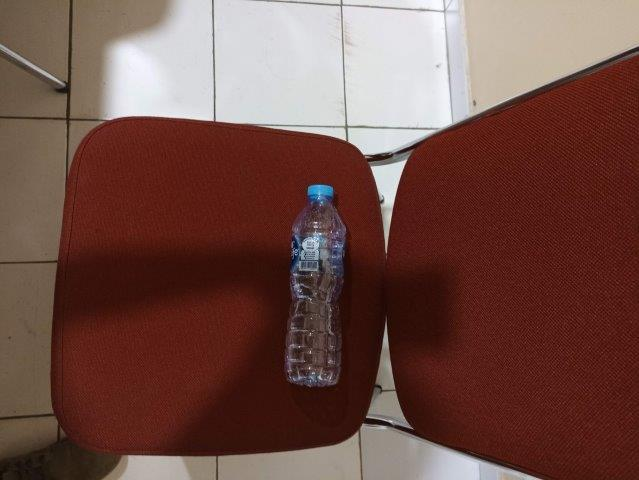botolplastik: (286, 184, 345, 385)
